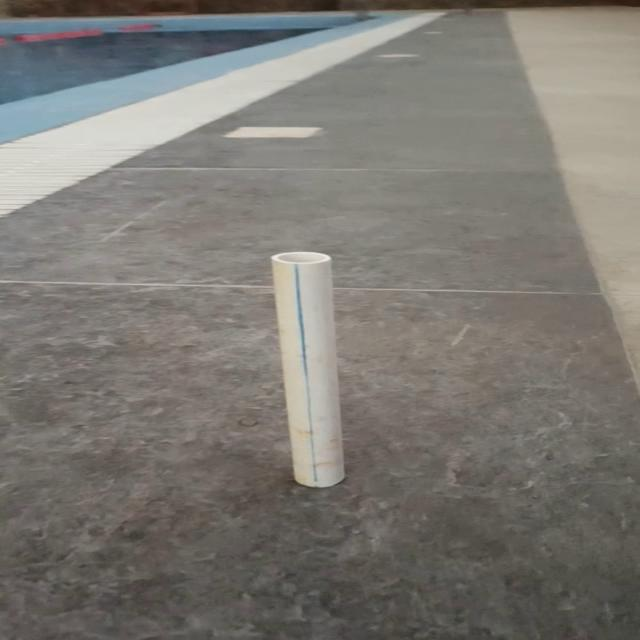Cube: (268, 250, 346, 488)
